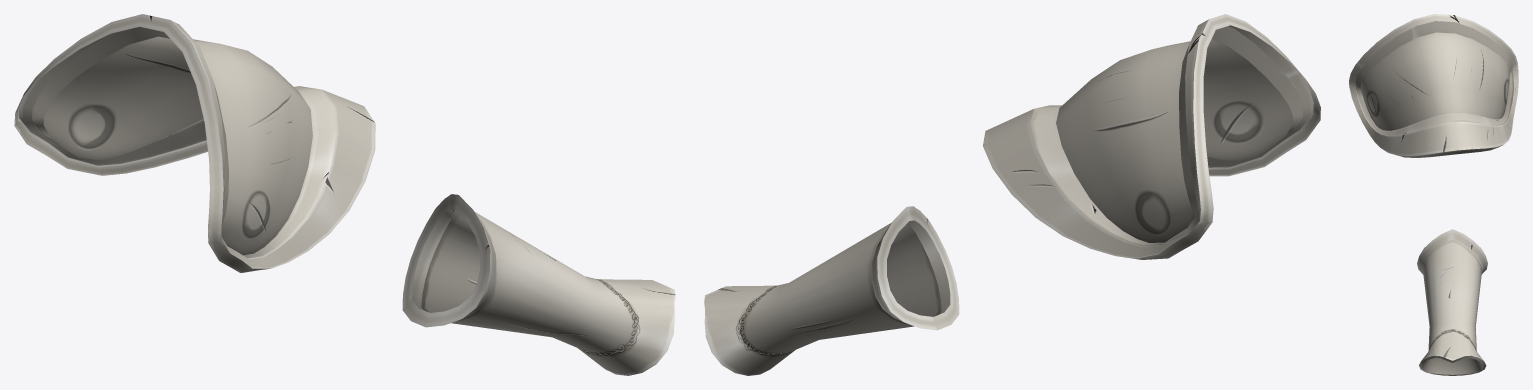
Rendered from amorarm_L.glb.
The picture shows the model from 3 angles, left to right: view 1: azimuth 30°, elevation 25°; view 2: azimuth 150°, elevation 25°; view 3: azimuth 270°, elevation 25°; orthographic projection. The views are drawn at different scales.
Parts seen in each view (by area): view 1: amorarm_L; view 2: amorarm_L; view 3: amorarm_L.
Boxes of the visible parts, x1,y1,x2,y2 form: amorarm_L: (14, 14, 675, 375); amorarm_L: (704, 14, 1320, 375); amorarm_L: (1349, 14, 1518, 375).
Size of the model in its own units: 0.4705 by 0.3531 by 0.2203.
Materials: 1 (1 with a texture image).
